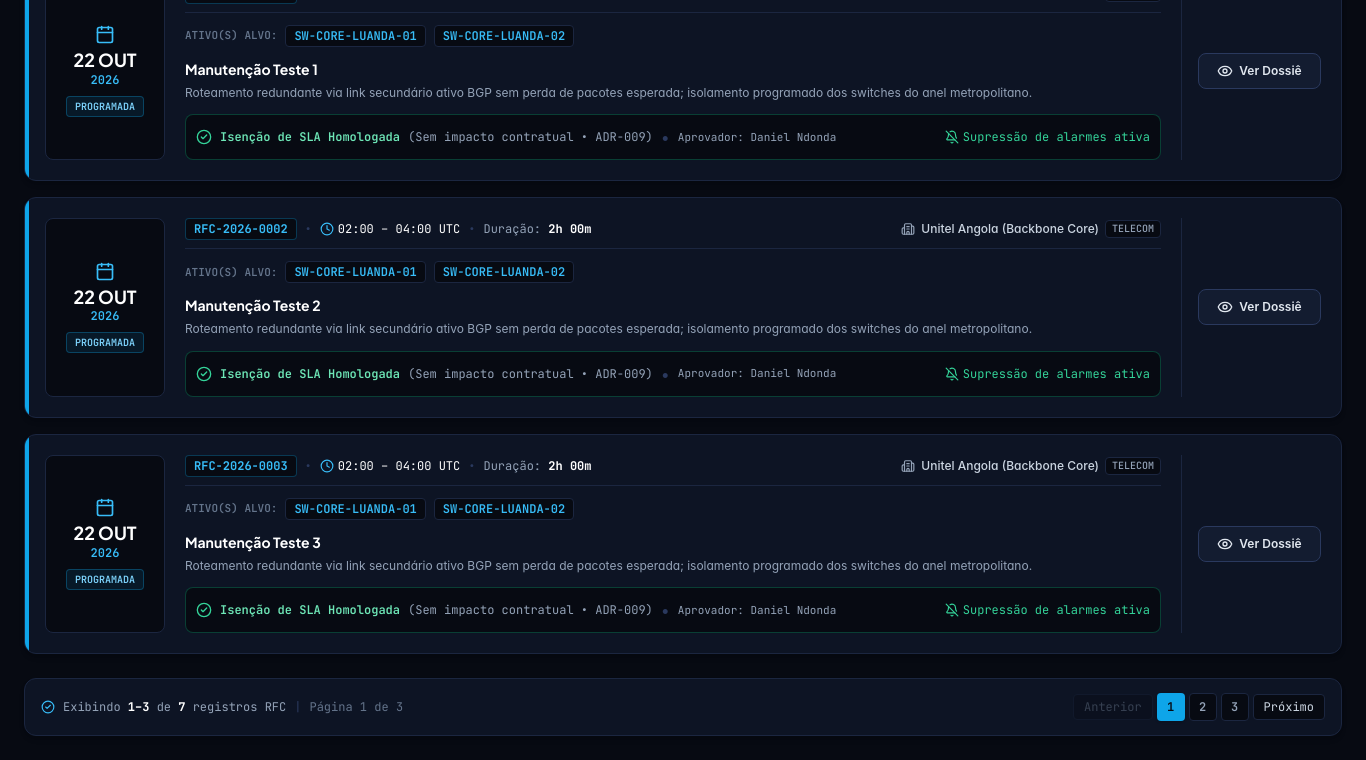
Test: Gestão de Janelas de Manutenção & SLA (Issue #218) › Painel de Janelas de Manutenção (/maintenance) › deve paginar a lista de cartões RFC com 3 registros por página e não renderizar botão de rollback avulso
This screenshot has width=1366, height=760.
(page scrolled)
Expected: the text "RFC-2026-0003" is shown, [185,454,297,476]
Expected: the text "RFC-2026-0004" is not shown
Note: Clicar em "Próximo"
What coordinates should you click on to do the following:
click the button "Próximo"
I would click on:
 (1289, 707)
Its box is [1253,694,1325,720].
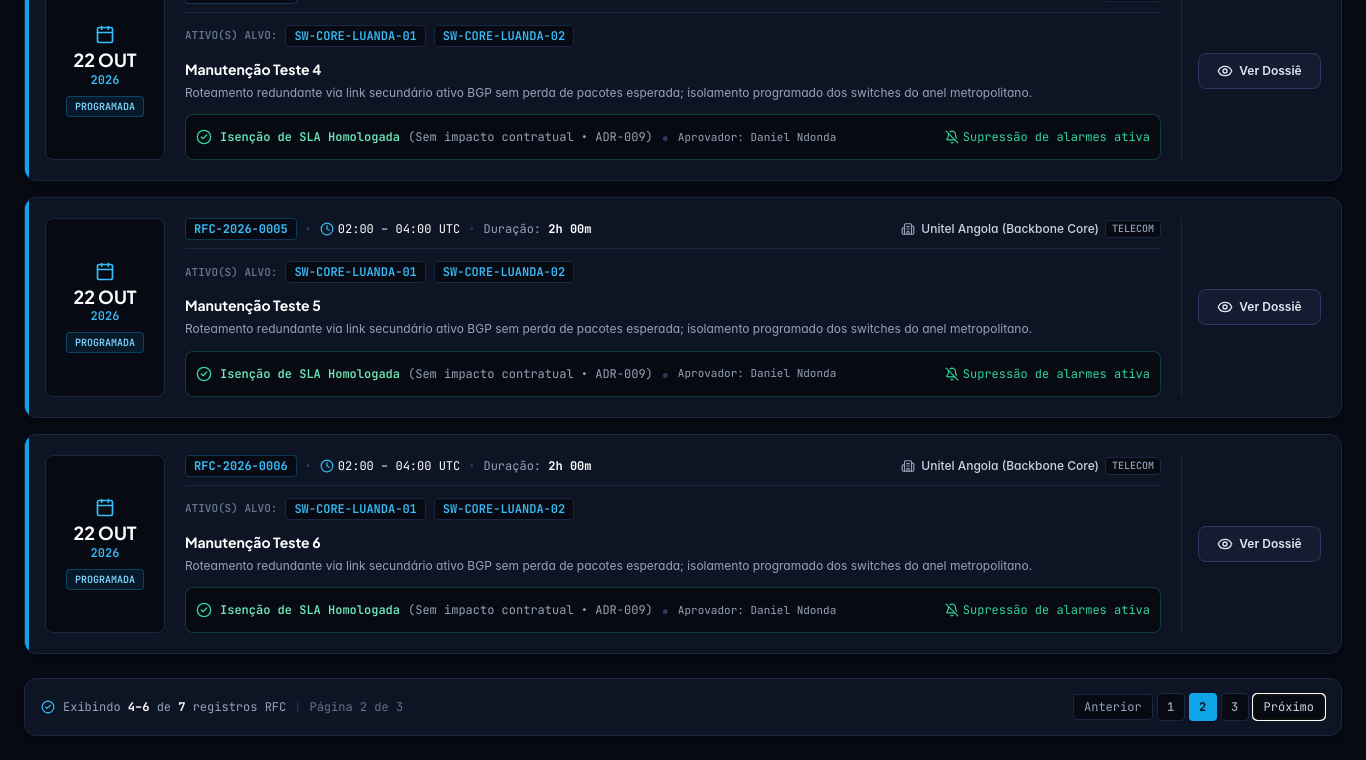
Expected: the text "RFC-2026-0006" is shown, [185,454,297,476]
Expected: the element with test id "maint-pagination" shows "Exibindo 4–6 de 7 registros RFC", [24,678,1342,736]
